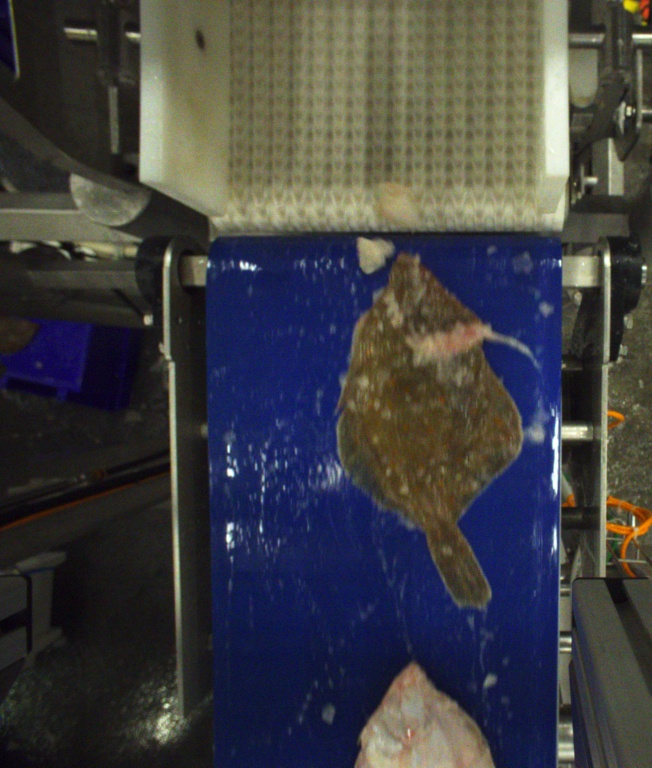PLE: (336, 251, 523, 621)
